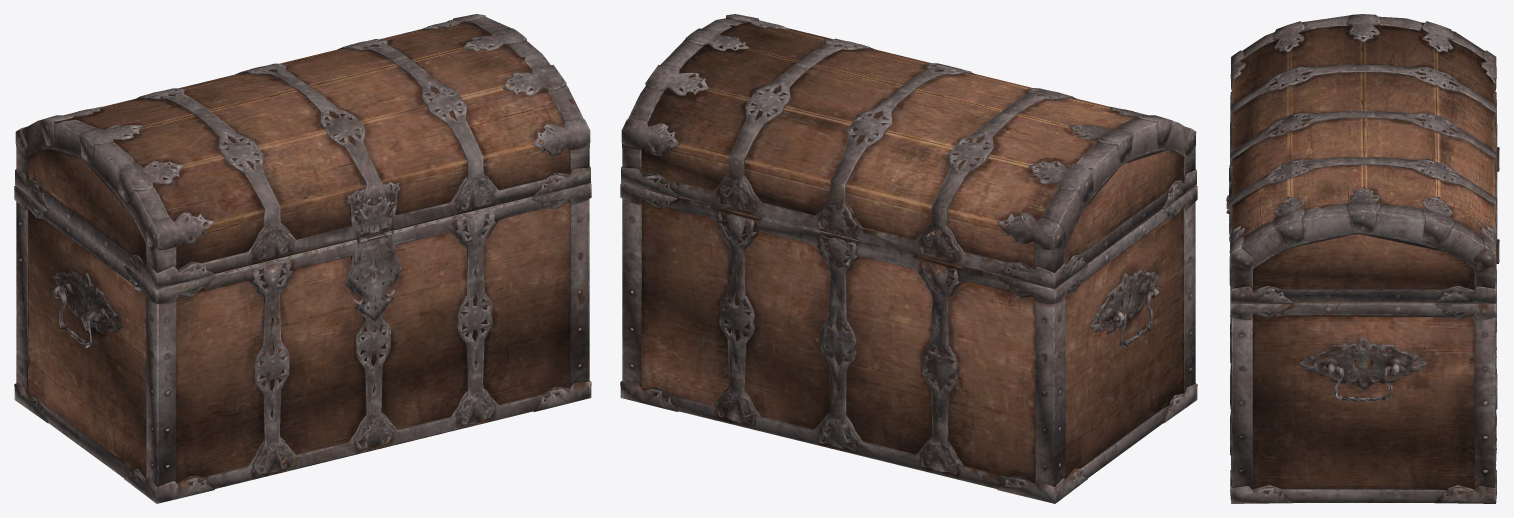
File: truhe.glb
3 renders of one model, left to right at view 1: azimuth 30°, elevation 25°; view 2: azimuth 150°, elevation 25°; view 3: azimuth 270°, elevation 25°, orthographic. The views are drawn at different scales.
Parts seen in each view (by area): view 1: treasure_chest_bottom, treasure_chest_lid, treasure_chest_lock; view 2: treasure_chest_bottom, treasure_chest_lid; view 3: treasure_chest_lid, treasure_chest_bottom, treasure_chest_handle_right.
Part boxes in pixels (x1,y1,x2,y2): treasure_chest_bottom: [14, 183, 591, 503]; treasure_chest_lid: [15, 14, 591, 288]; treasure_chest_lock: [349, 234, 399, 322]; treasure_chest_bottom: [620, 183, 1197, 503]; treasure_chest_lid: [620, 14, 1196, 288]; treasure_chest_lid: [1226, 14, 1499, 303]; treasure_chest_bottom: [1230, 163, 1497, 503]; treasure_chest_handle_right: [1321, 364, 1406, 401].
Size of the model in its own units: 0.9603 by 0.6187 by 0.5232.
1 material, 1 textured.
